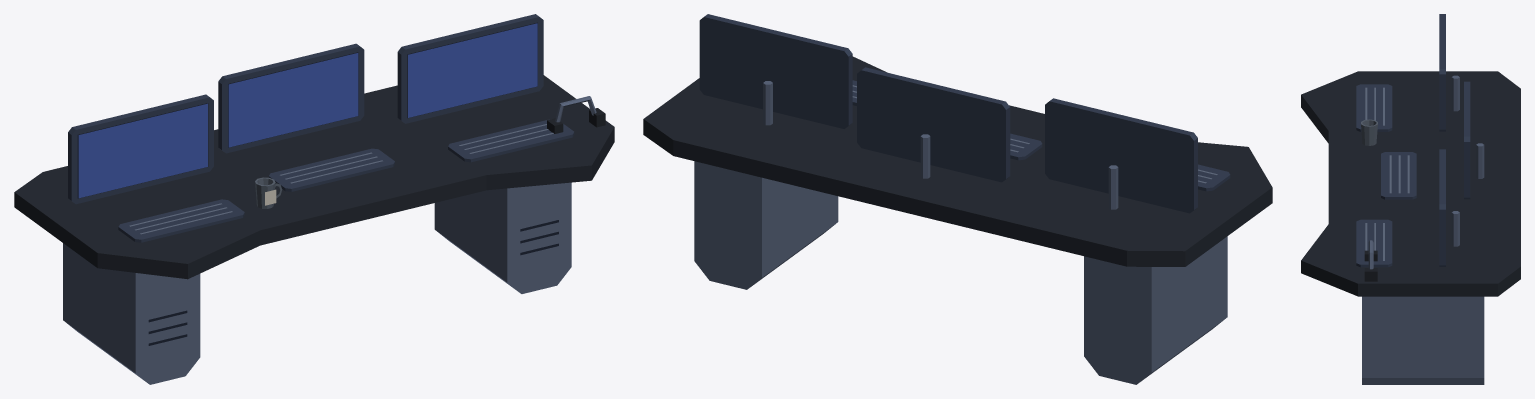
File: res_security_console.glb
3 views of the same model, side by side, from view 1: azimuth 30°, elevation 25°; view 2: azimuth 150°, elevation 25°; view 3: azimuth 270°, elevation 25° (orthographic). The views are drawn at different scales.
Parts seen in each view (by area): view 1: curved_control_desk, print, console_headset, key_deck, pedestal_vent, keyboard_row, monitoring_mug; view 2: curved_control_desk, key_deck, console_headset; view 3: curved_control_desk, console_headset, key_deck, keyboard_row, monitoring_mug, ear_cup.
Part boxes in pixels (x1,y1,x2,y2): curved_control_desk: (14,75,614,279); print: (78,23,537,198); console_headset: (63,96,596,384); key_deck: (68,14,574,242); pedestal_vent: (77,22,558,345); keyboard_row: (129,124,553,234); monitoring_mug: (255,177,282,208); curved_control_desk: (643,56,1272,266); key_deck: (699,14,1230,213); console_headset: (694,81,1227,384); curved_control_desk: (1301,71,1520,296); console_headset: (1362,75,1484,384); key_deck: (1356,14,1470,267); keyboard_row: (1365,87,1409,260); monitoring_mug: (1361,119,1377,145); ear_cup: (1364,250,1377,281).
Bounding box in the file's own units: 3.2 × 1.35 × 1.4.
